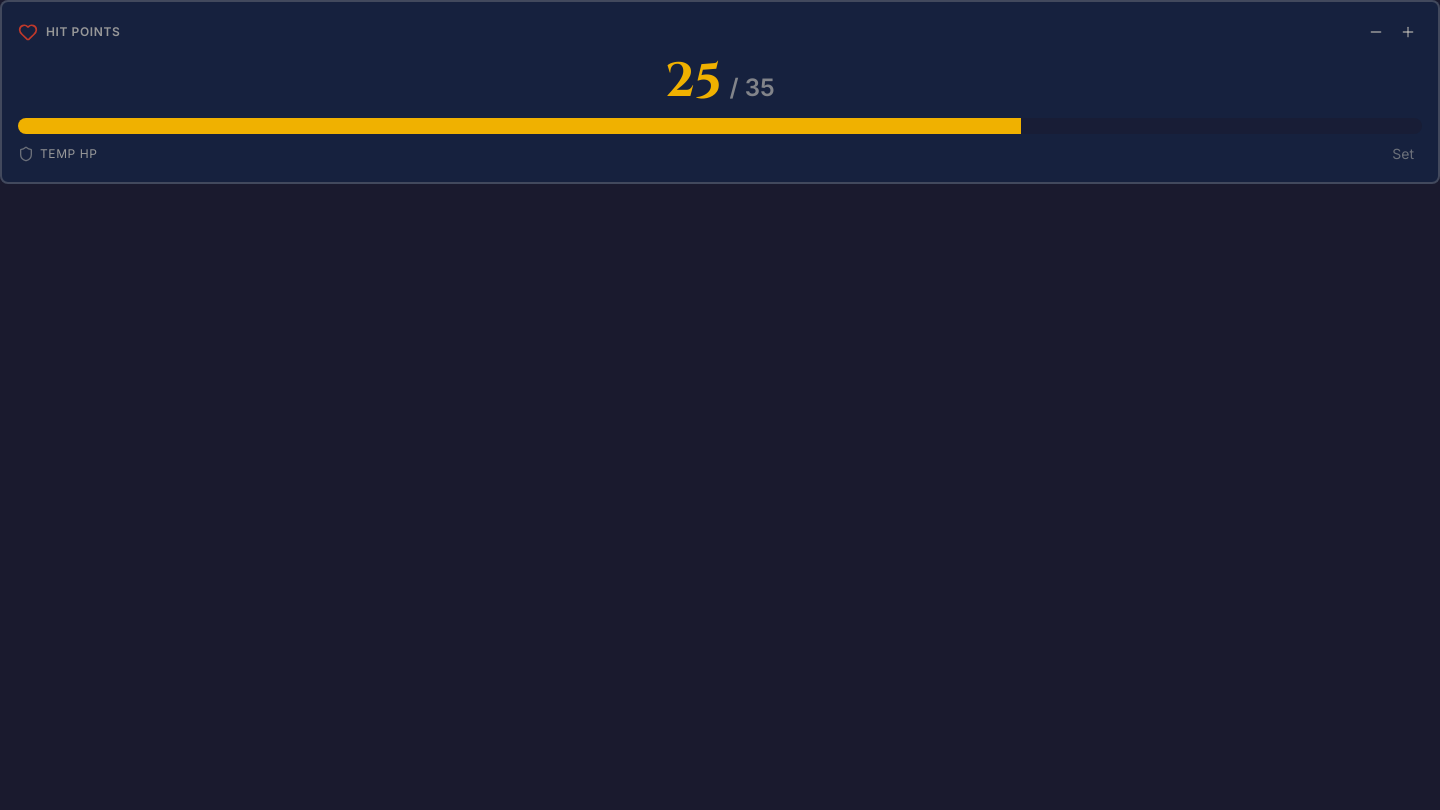
Test case: HPSessionTracker › should show event history after applying damage
Note: Open damage modal
Click the button with test id "open-damage-modal" at (1376, 32), box left=1362, top=18, right=1390, bottom=46
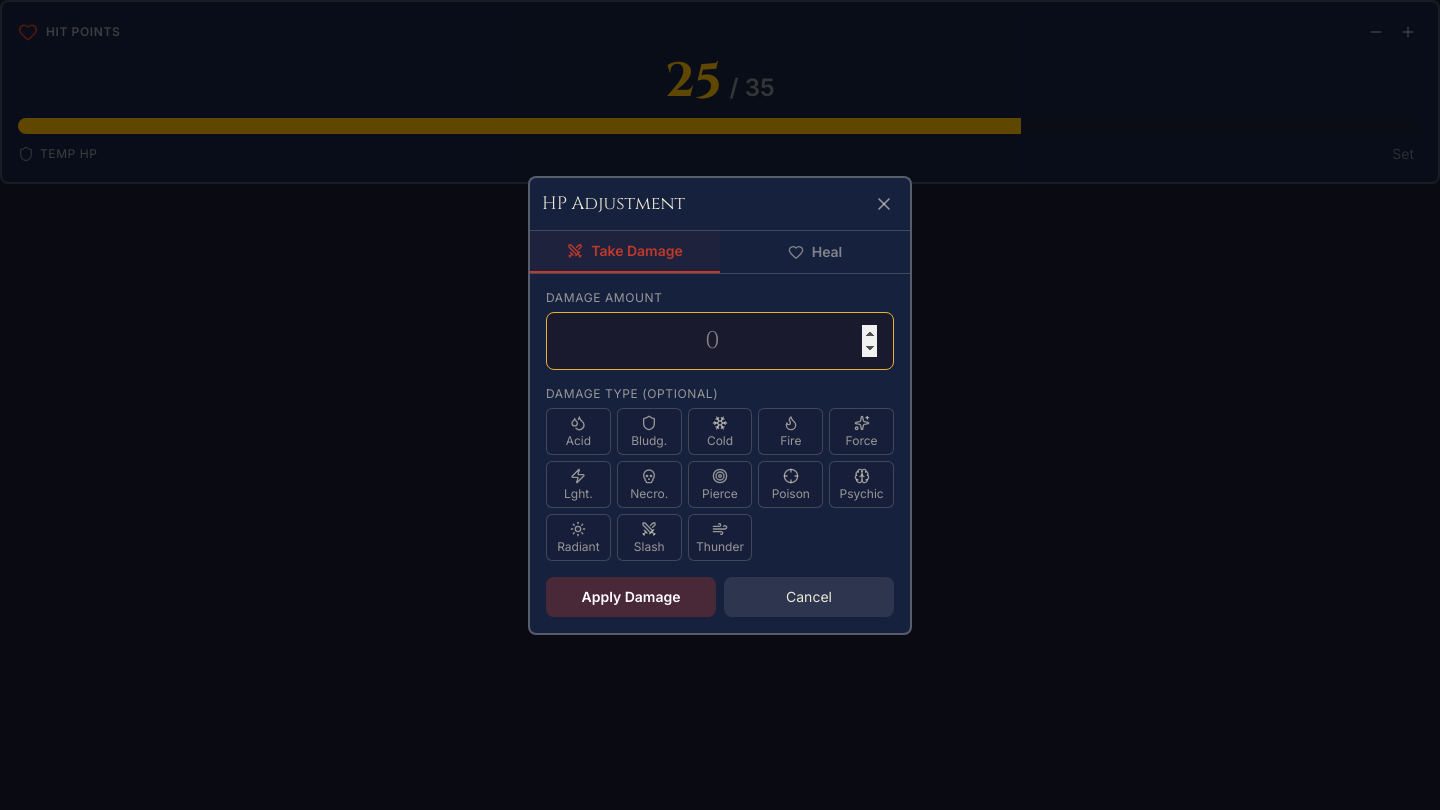
Type "5" into the number field with test id "hp-amount-input" at (720, 340), box left=546, top=312, right=894, bottom=370
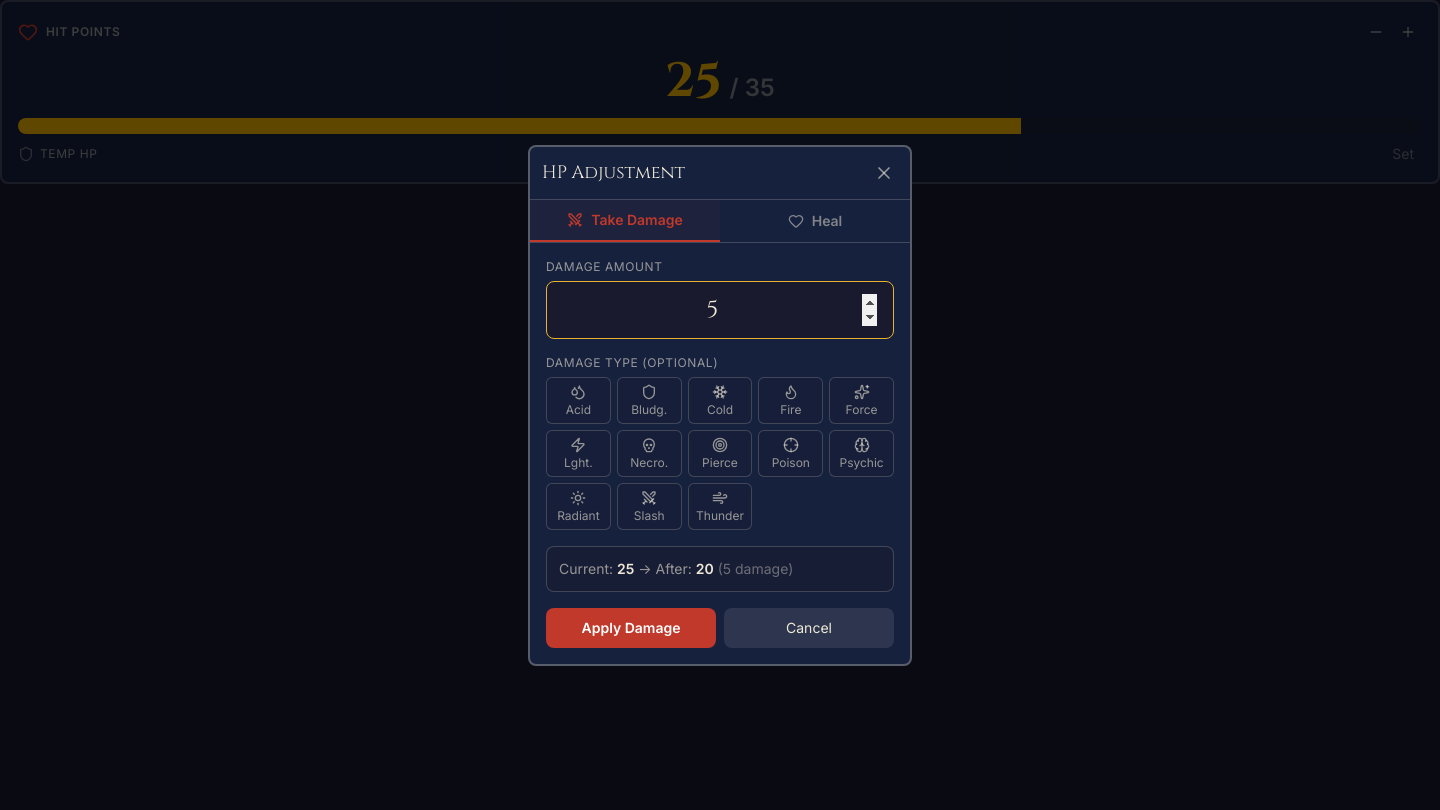
Click the button with test id "apply-button" at (631, 628), box left=546, top=608, right=716, bottom=648
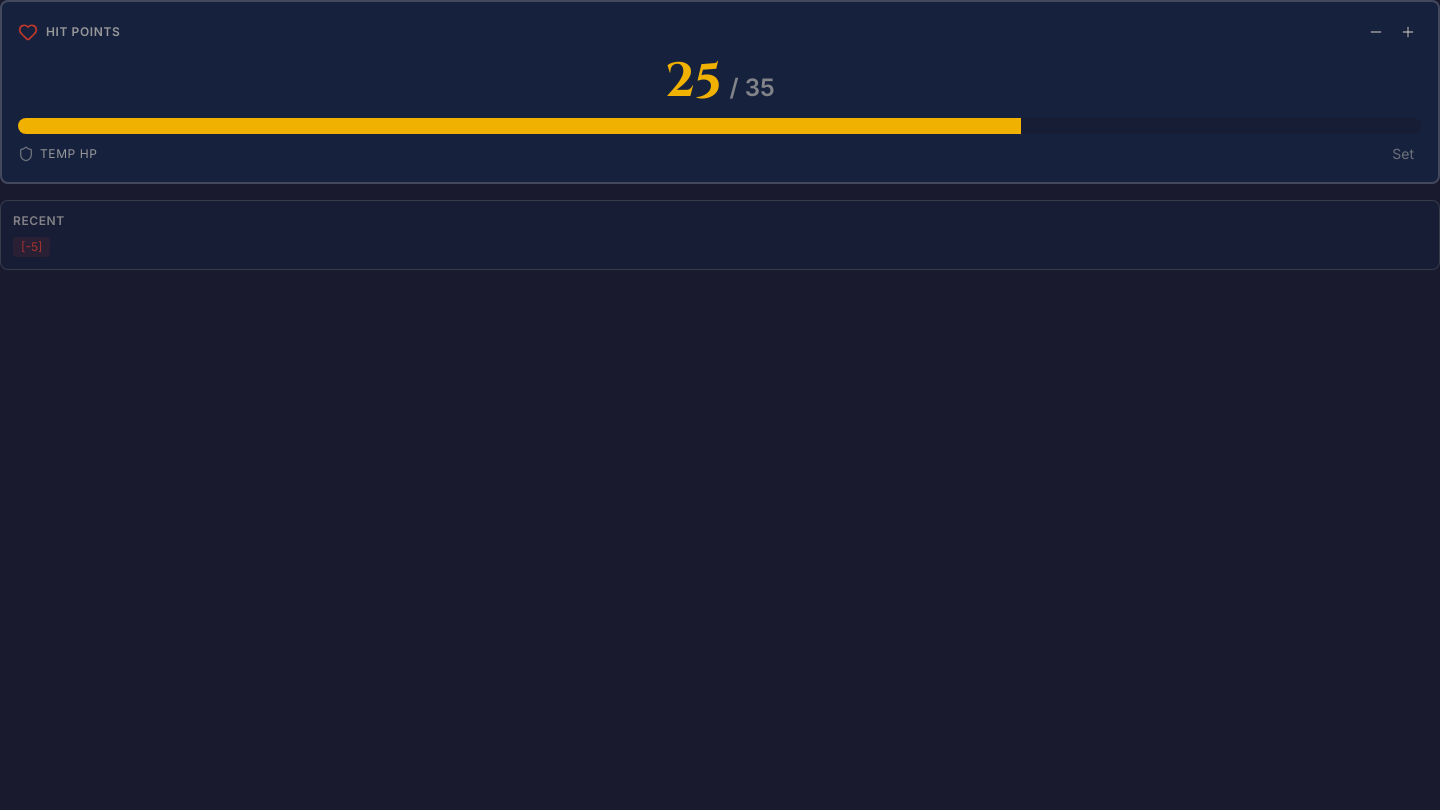
Now the element with test id "hp-event-history" is shown, box left=0, top=200, right=1439, bottom=270
Now the text "[-5]" is shown, box left=13, top=237, right=50, bottom=257
